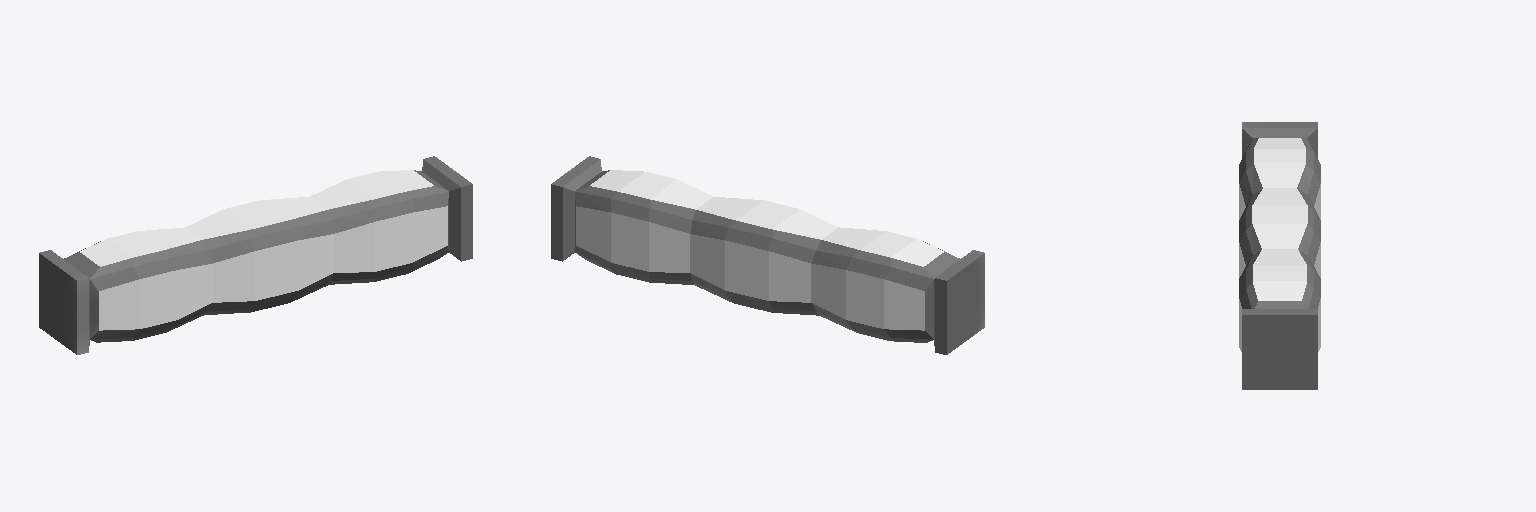
3 views of the same model, side by side, from view 1: azimuth 30°, elevation 25°; view 2: azimuth 150°, elevation 25°; view 3: azimuth 270°, elevation 25° (orthographic).
Parts seen in each view (by area): view 1: Cube; view 2: Cube; view 3: Cube.
Boxes of the visible parts, <box> form: Cube: <box>39,156,472,354</box>; Cube: <box>551,156,984,354</box>; Cube: <box>1239,122,1320,389</box>.
Bounding box in the file's own units: 4.98 × 0.9885 × 0.8889.
1 materials, 1 textured.